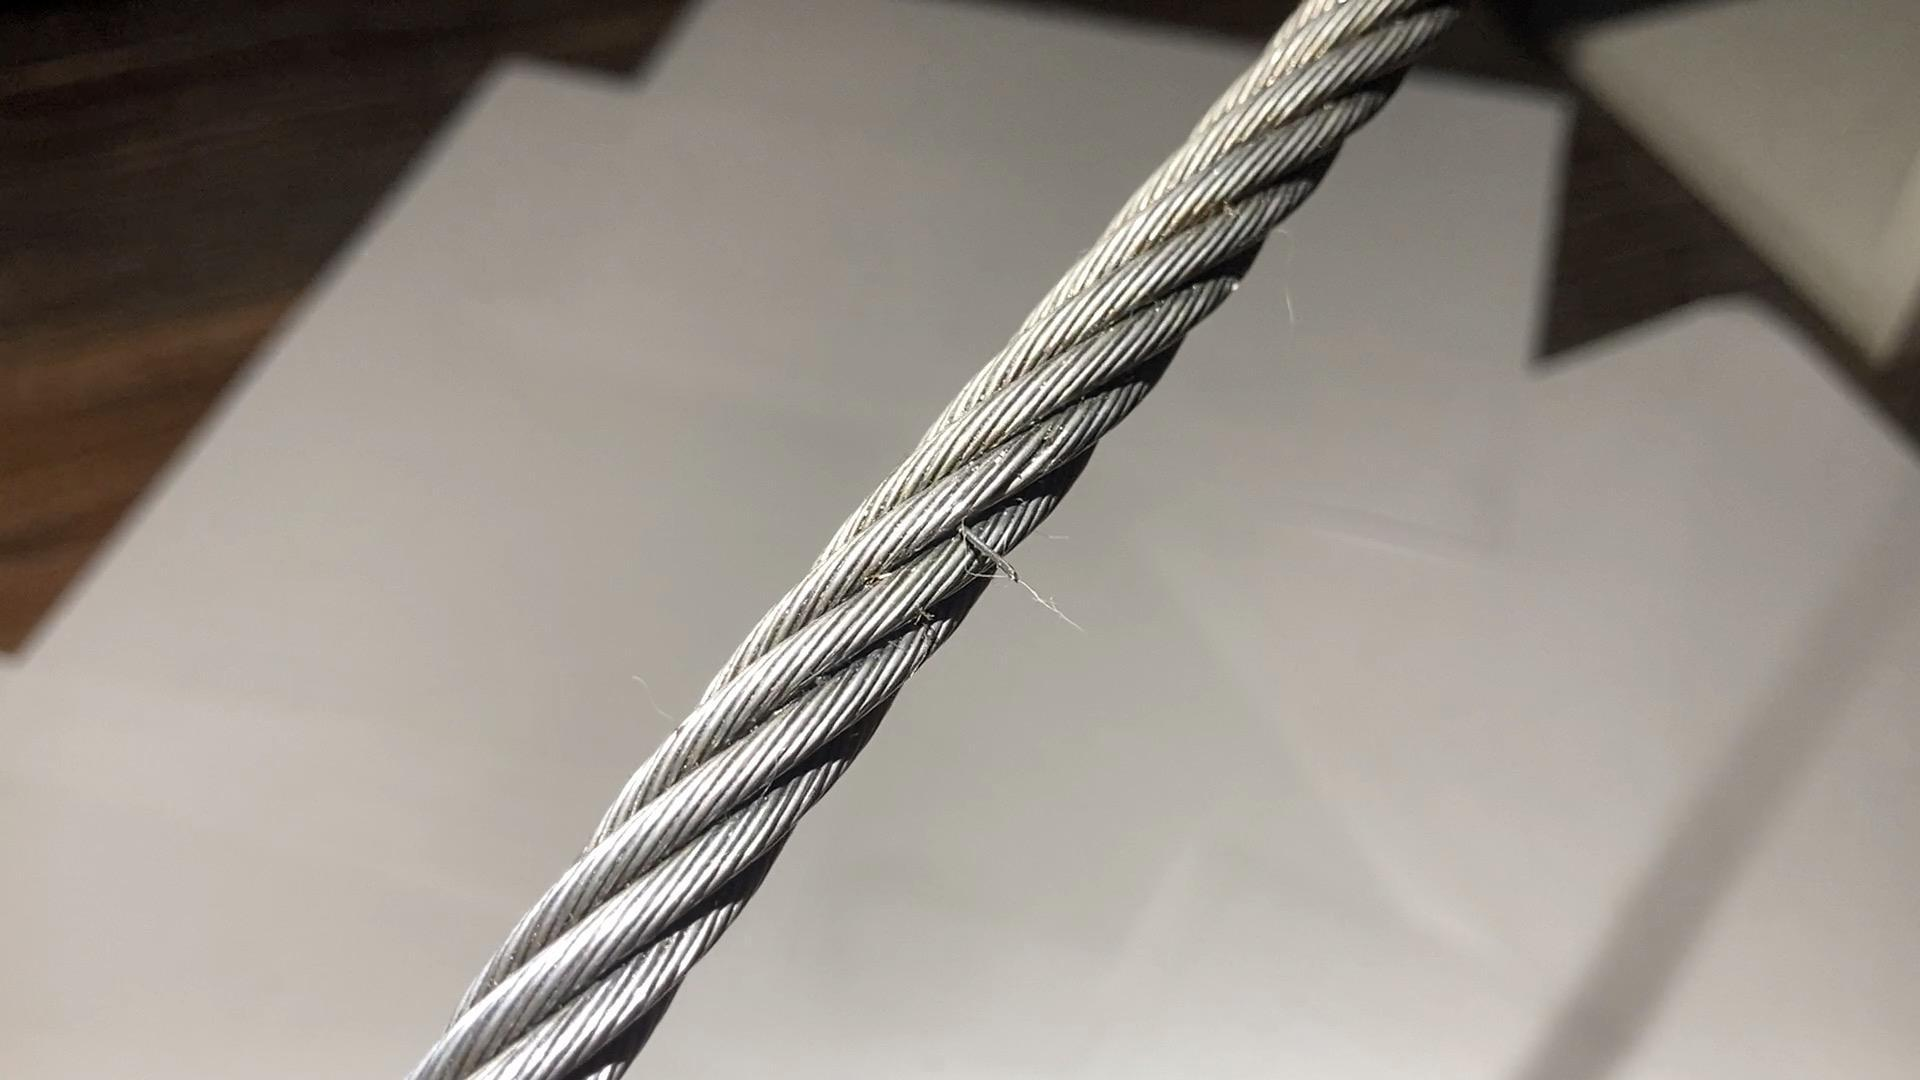break: (938, 497, 1038, 600)
